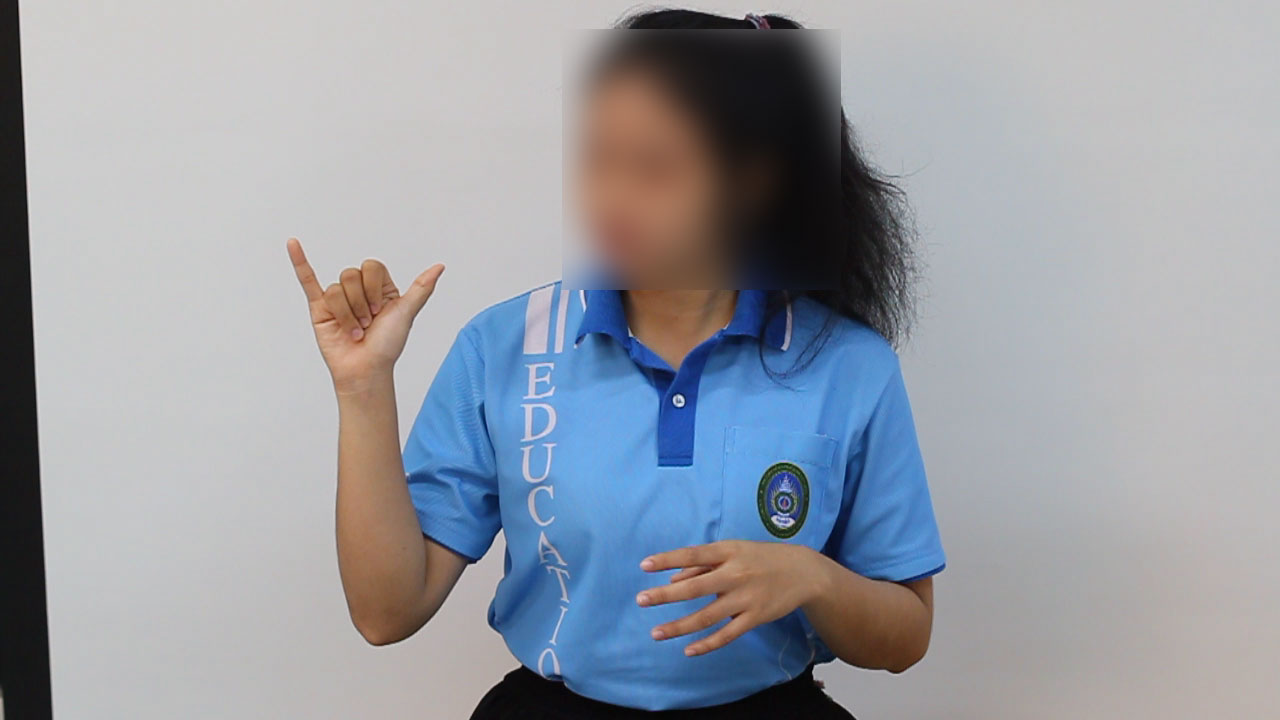yor: (268, 224, 452, 388)
